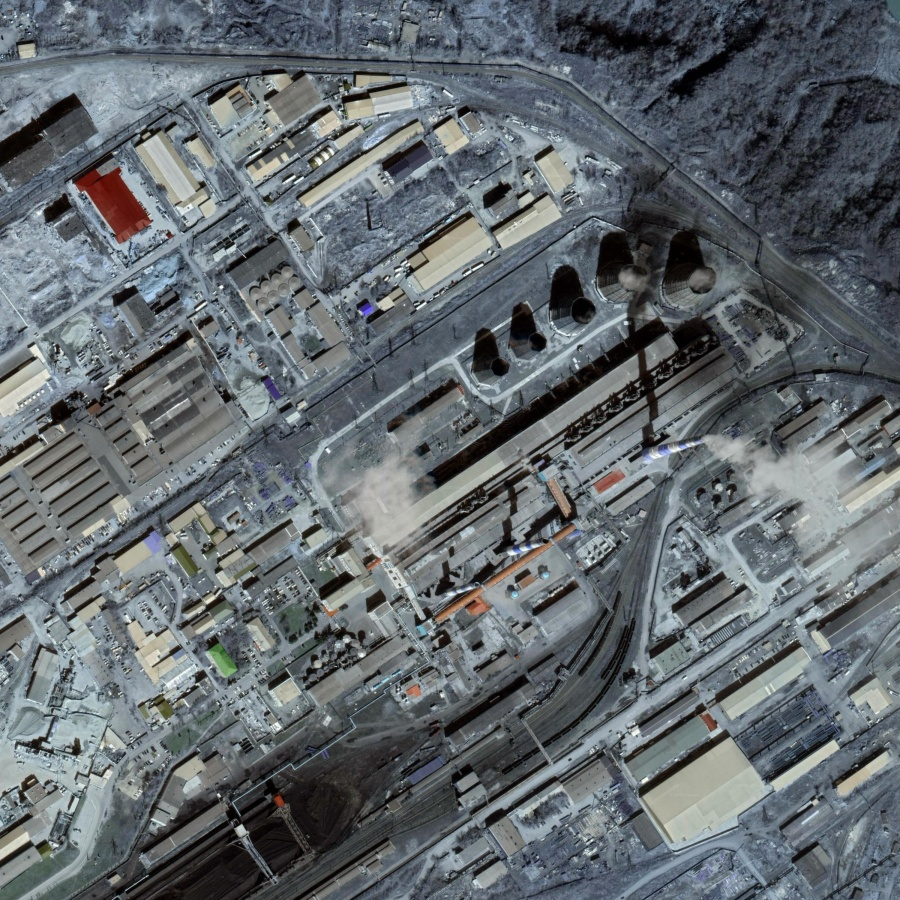PowerPlant: (373, 208, 820, 578)
